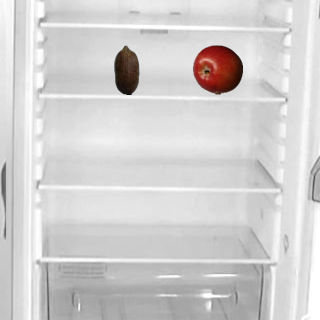Apple Braeburn: (192, 44, 242, 94)
Nut Pecan: (101, 44, 151, 94)
